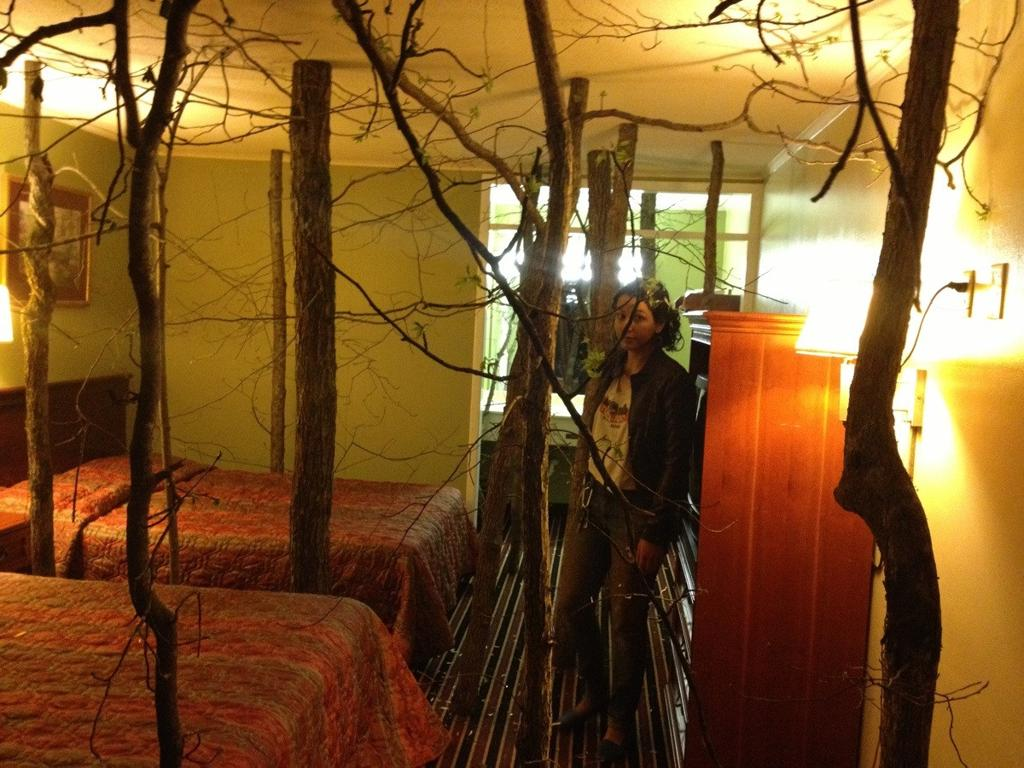face: (613, 297, 655, 351)
